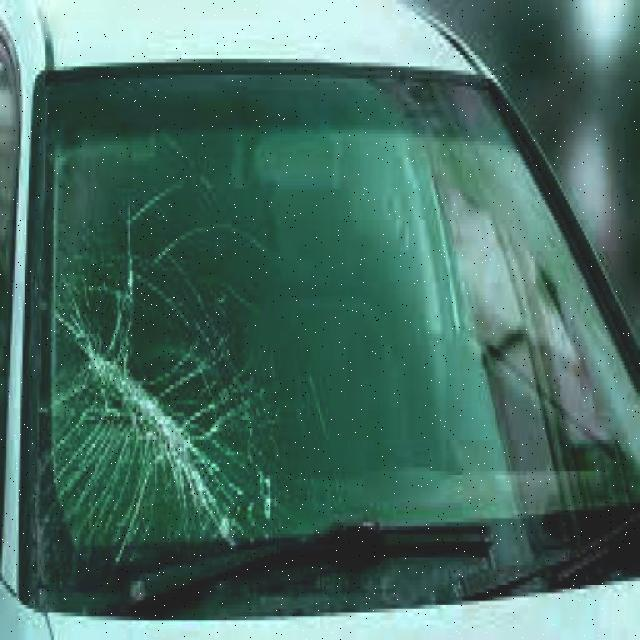car damage: (68, 334, 219, 522)
